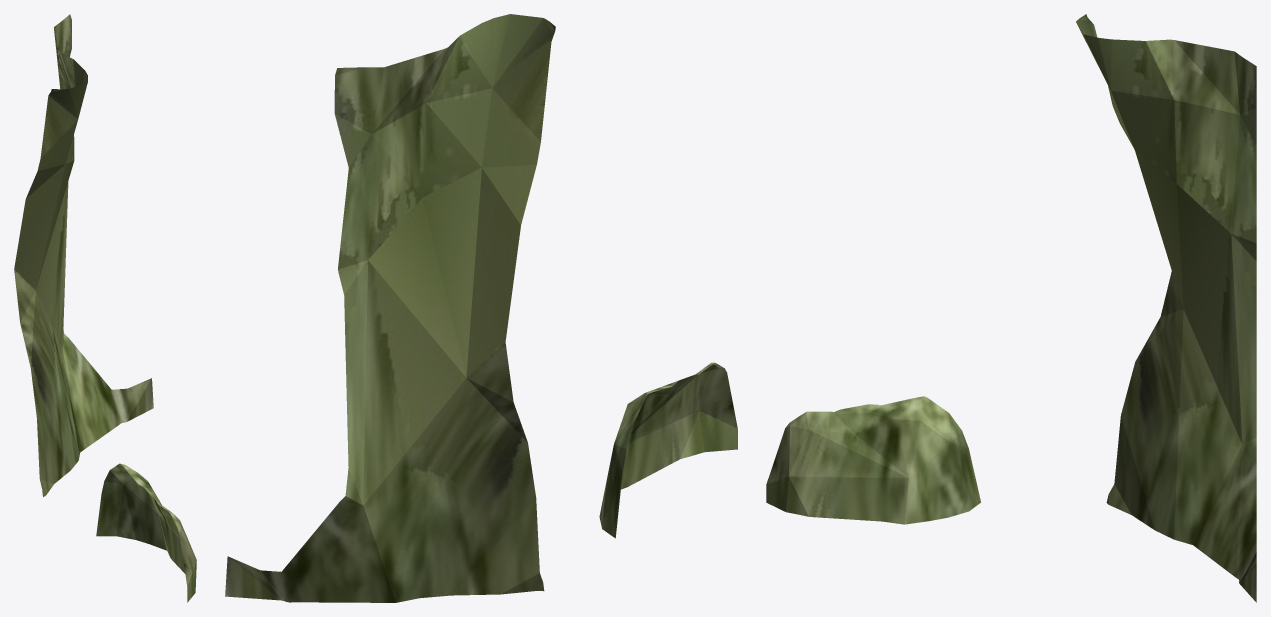
3 views of the same model, side by side, from view 1: azimuth 30°, elevation 25°; view 2: azimuth 150°, elevation 25°; view 3: azimuth 270°, elevation 25° (orthographic). The views are drawn at different scales.
Size of the model in its own units: 1.3 by 2.95 by 2.68.
1 material, 1 textured.
